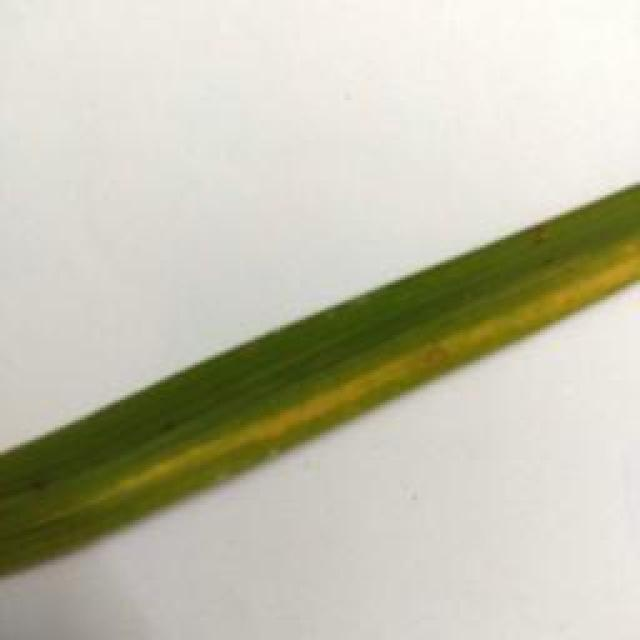Bacterial_Blight: (0, 240, 640, 534)
Brown_Spot: (154, 415, 211, 432), (13, 471, 52, 495), (523, 233, 552, 245)
